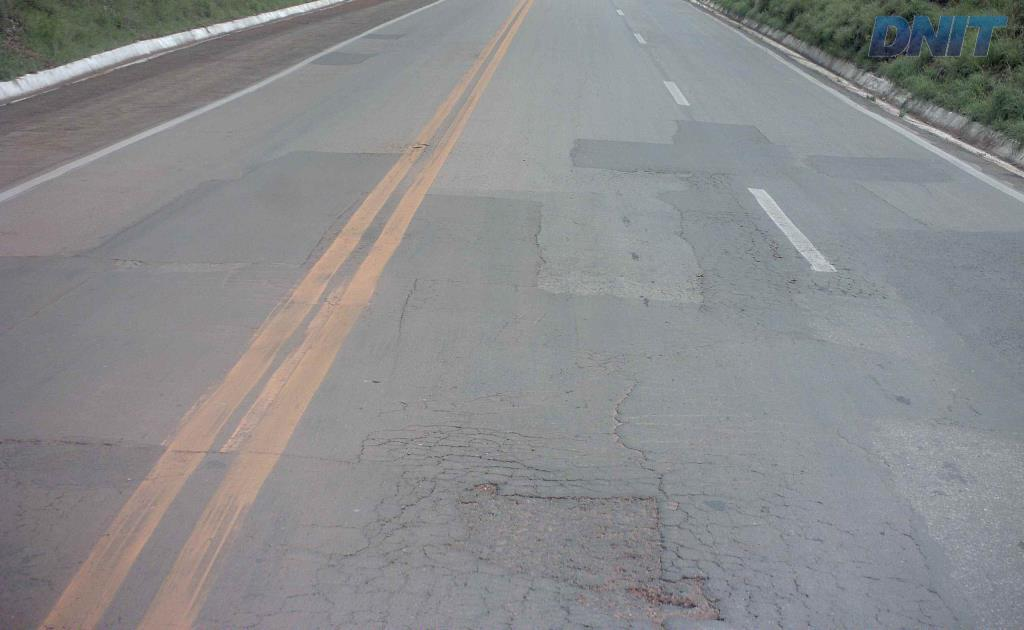crack: (423, 451, 731, 629), (392, 472, 466, 519), (898, 598, 946, 629)
pothole: (427, 466, 735, 628)
